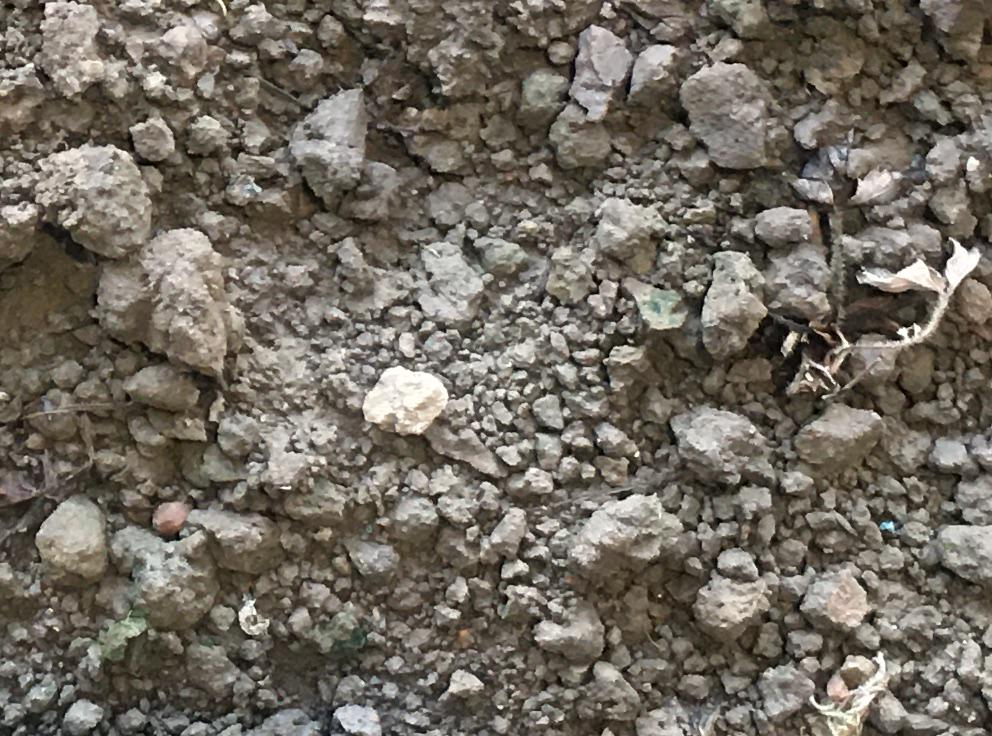block: (85, 229, 228, 376), (33, 144, 148, 256), (563, 492, 675, 589), (111, 528, 215, 630), (285, 87, 365, 205), (667, 402, 762, 488)
